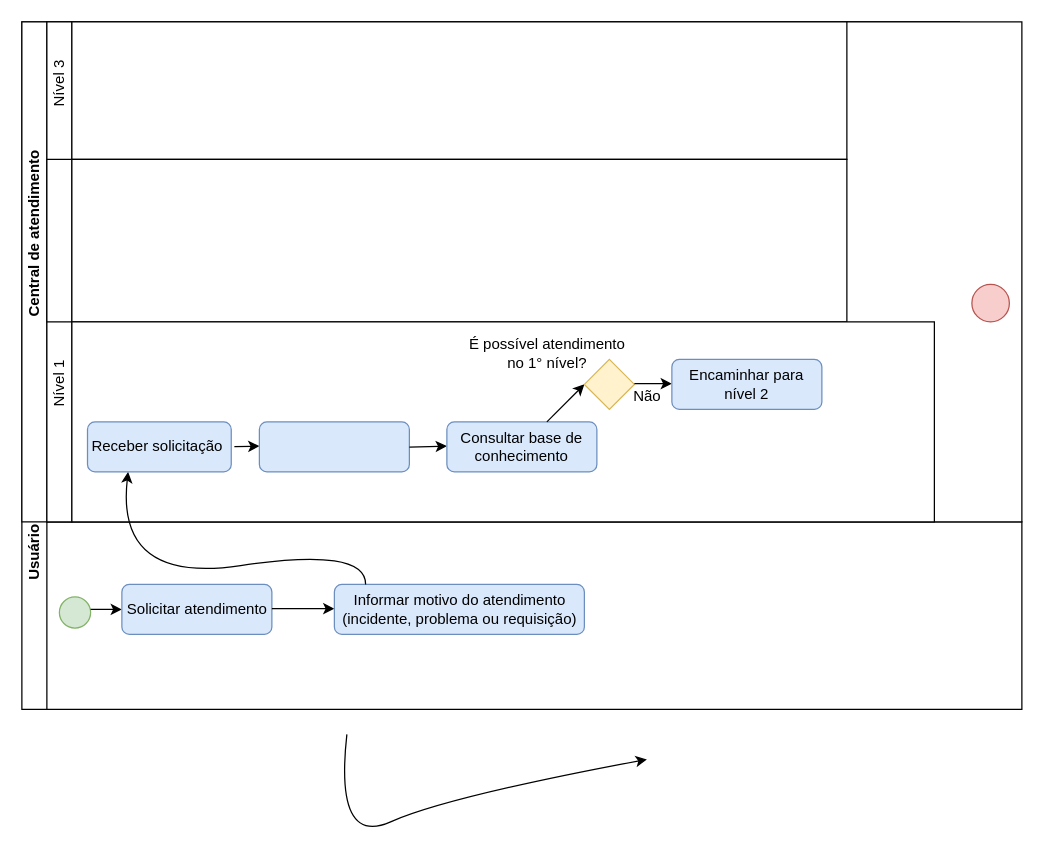
Image size: 1044x849. Some labels were removed from this diagram. The shapes that lost their labels are listed below. From the top down, each one's centre as x and y in pixels, then its label:
At point (59, 240): "Nível 2".
At point (333, 446): "Registrar solicitação".
